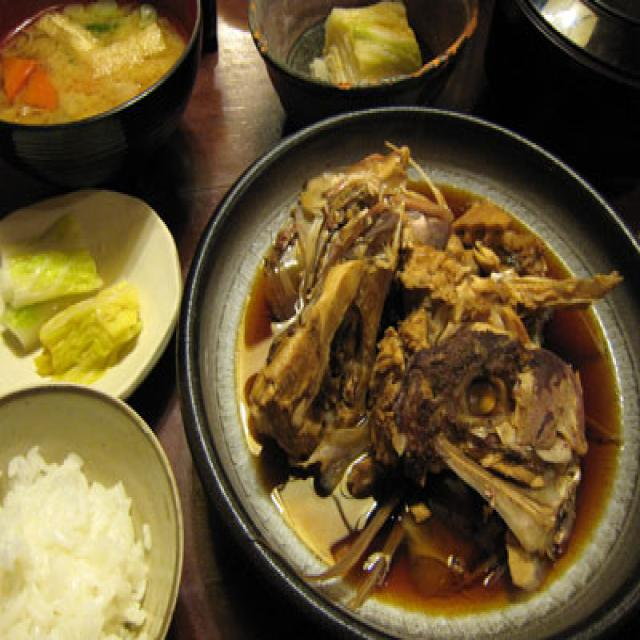熟制海鲜: (208, 113, 640, 636)
